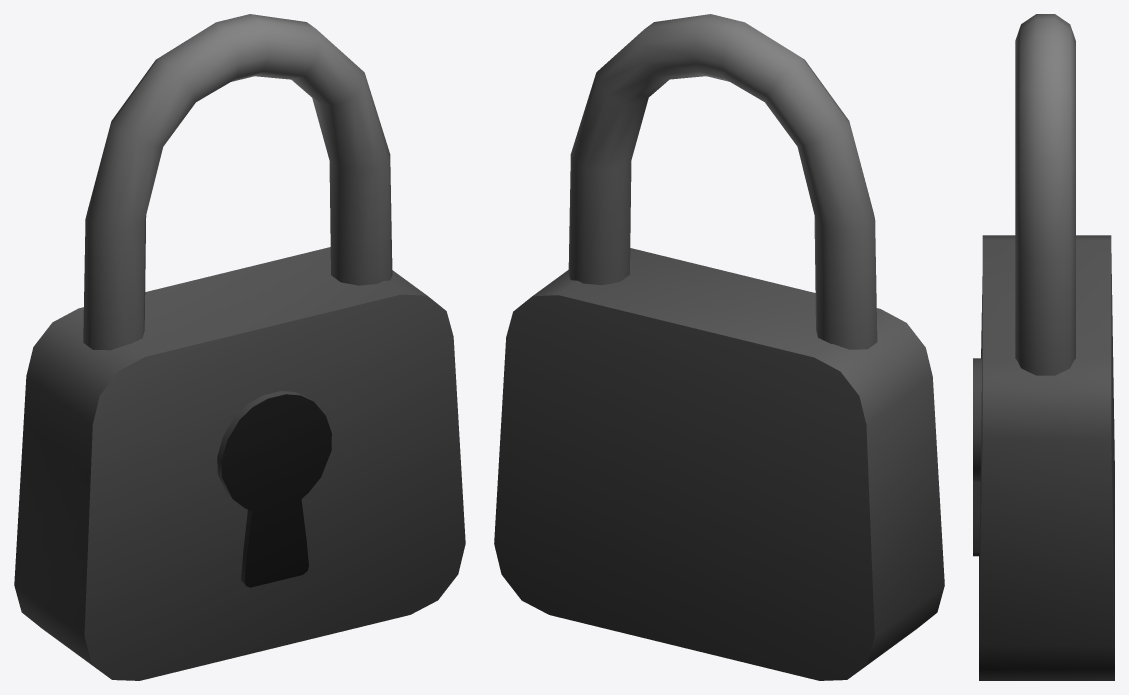
The model's file is Lock_1.glb.
3 renders of one model, left to right at view 1: azimuth 30°, elevation 25°; view 2: azimuth 150°, elevation 25°; view 3: azimuth 270°, elevation 25°, orthographic. The views are drawn at different scales.
Visible parts, largest first — view 1: Lock_1; view 2: Lock_1; view 3: Lock_1.
Part boxes in pixels (<box>): Lock_1: <box>14,14,465,680</box>; Lock_1: <box>494,14,944,680</box>; Lock_1: <box>973,14,1114,680</box>.
Size of the model in its own units: 0.0615 by 0.0927 by 0.0205.
1 material, 1 textured.
